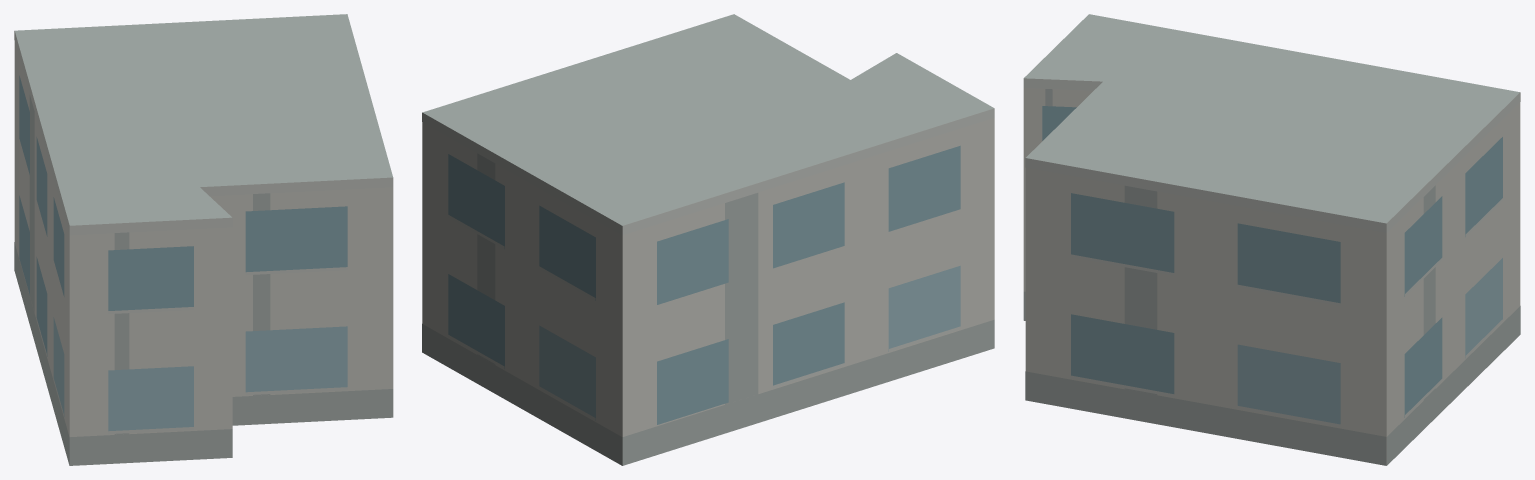
Rendered from residential-377538b8-15db-45d2-971d-b20bc86e928e.glb.
3 renders of one model, left to right at view 1: azimuth 30°, elevation 25°; view 2: azimuth 150°, elevation 25°; view 3: azimuth 270°, elevation 25°, orthographic.
Visible parts, largest first — view 1: residential-377538b8-15db-45d2-971d-b20bc86e928e.tmp; view 2: residential-377538b8-15db-45d2-971d-b20bc86e928e.tmp; view 3: residential-377538b8-15db-45d2-971d-b20bc86e928e.tmp.
Part boxes in pixels (<box>): residential-377538b8-15db-45d2-971d-b20bc86e928e.tmp: <box>14,14,393,465</box>; residential-377538b8-15db-45d2-971d-b20bc86e928e.tmp: <box>422,14,994,465</box>; residential-377538b8-15db-45d2-971d-b20bc86e928e.tmp: <box>1023,14,1520,465</box>.
Bounding box in the file's own units: 11.32 × 6.1 × 11.34.
